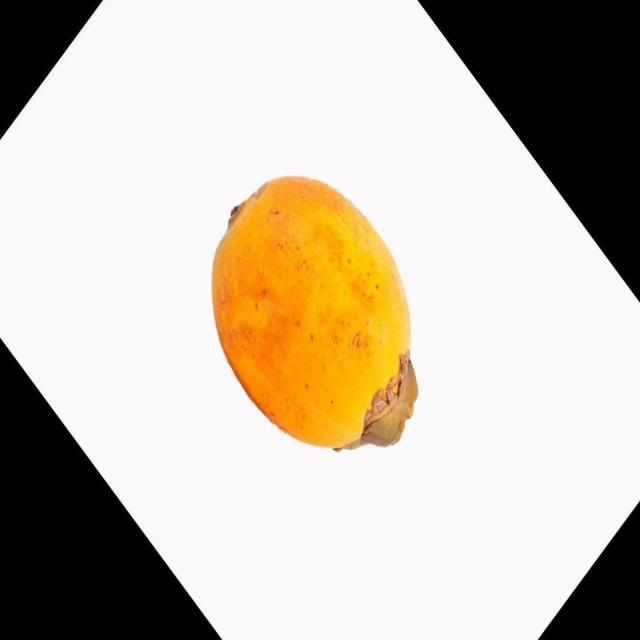good: (209, 176, 419, 453)
